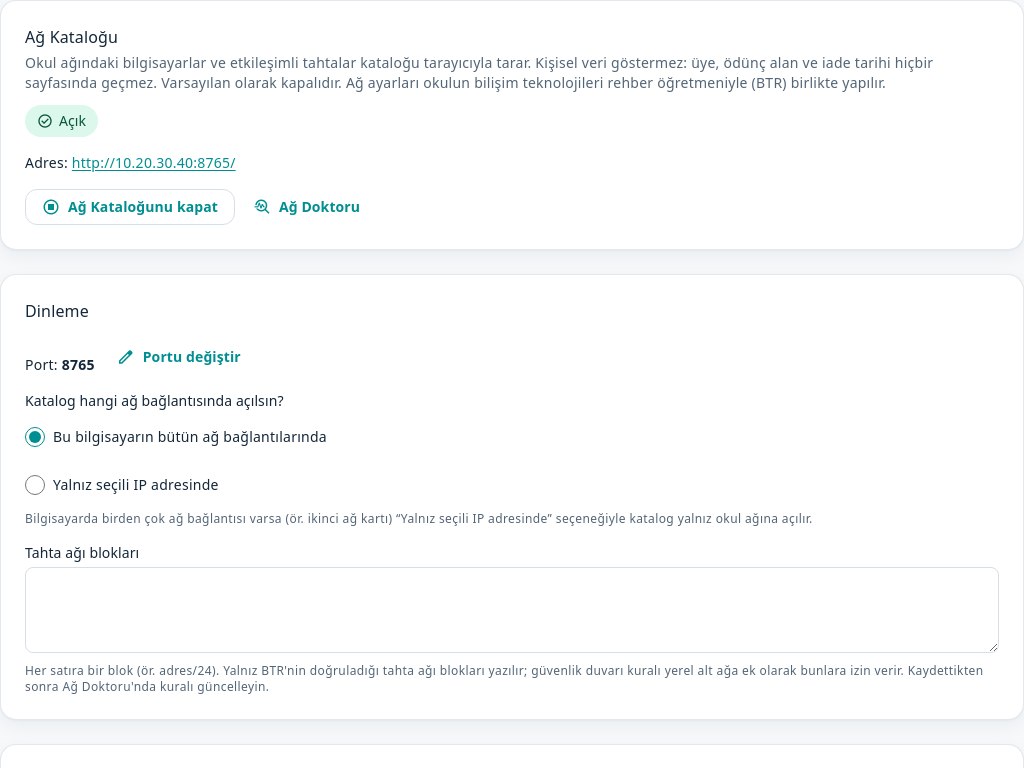
Test: Ağ Kataloğu — aç/kapa › açık katalog kapatılır
Step 1. Click the button "Ağ Kataloğunu kapat" → (130, 207), box [25,189,235,225]
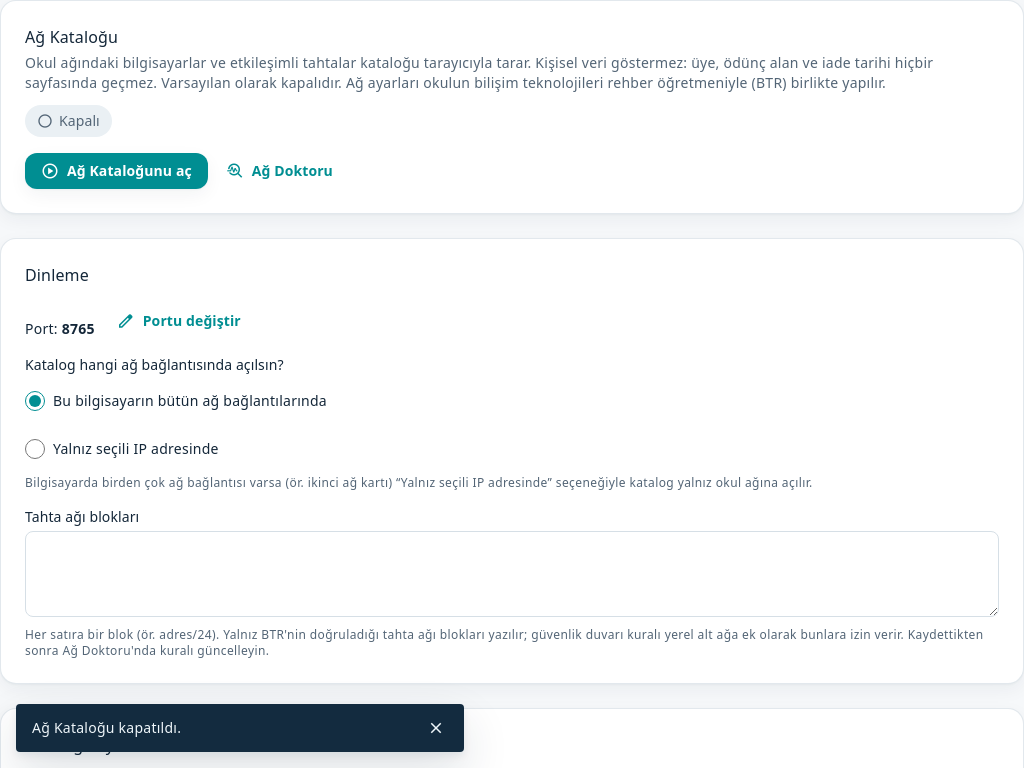
Result: the text "Ağ Kataloğu kapatıldı." is shown at [32,718,181,737]
